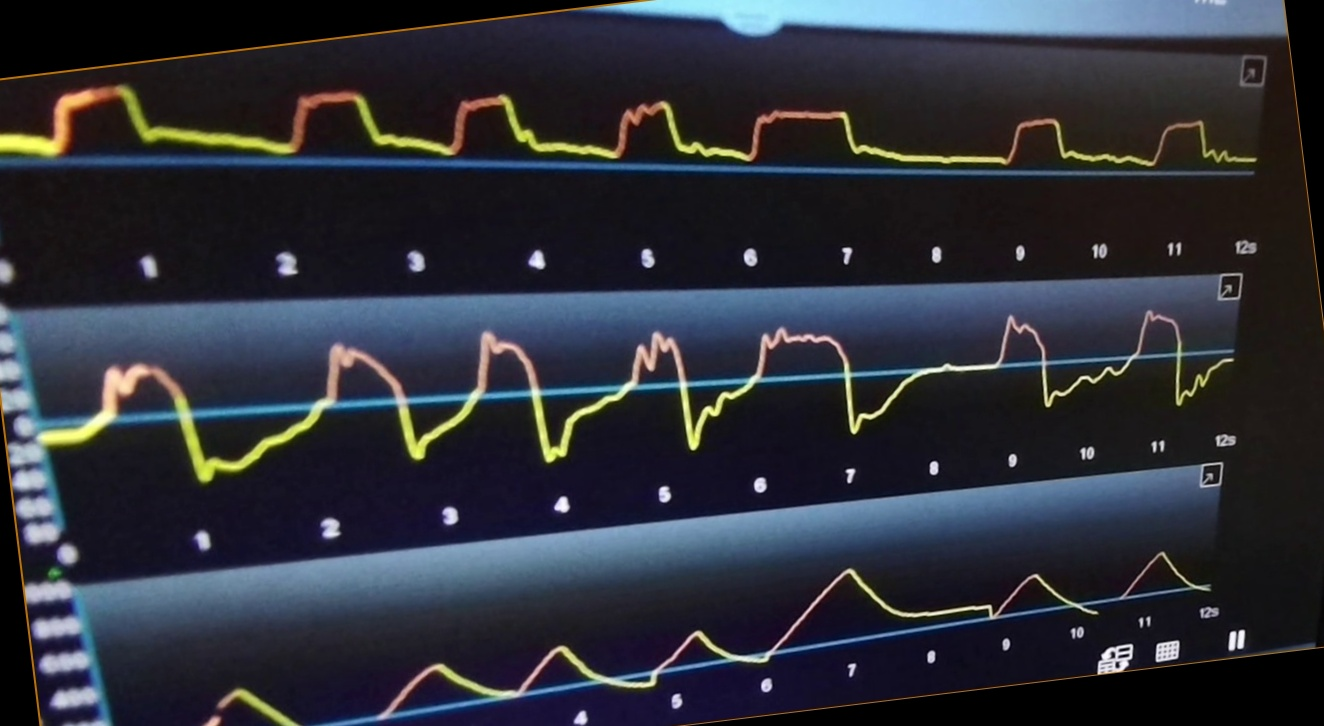Accumulation Flow: (44, 308, 1231, 477)
Volume: (203, 545, 1206, 726)
